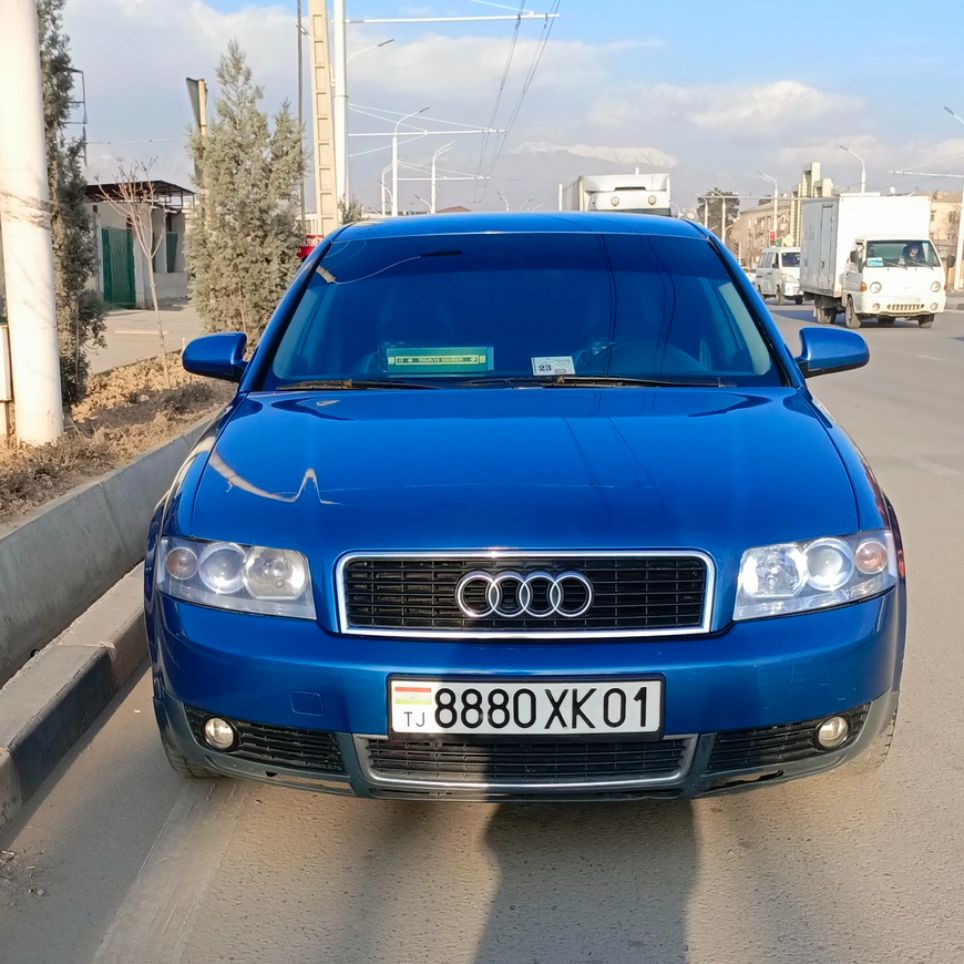license plate: (387, 674, 673, 741)
truck: (140, 210, 904, 816)
